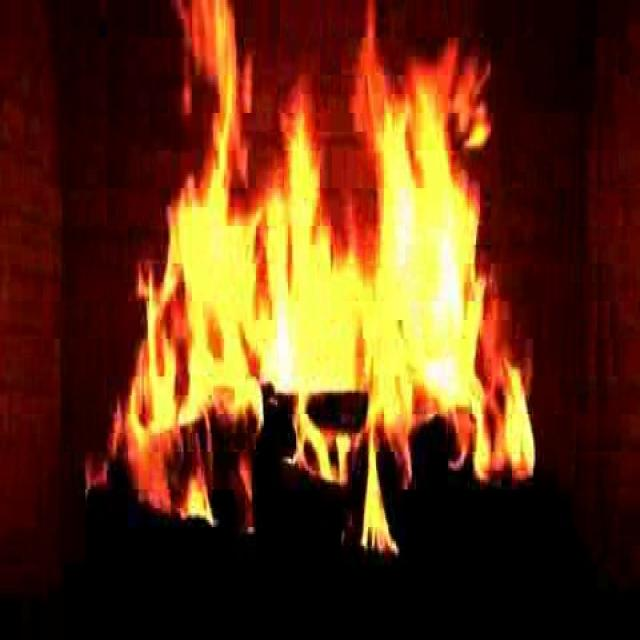fire: (137, 25, 507, 540)
